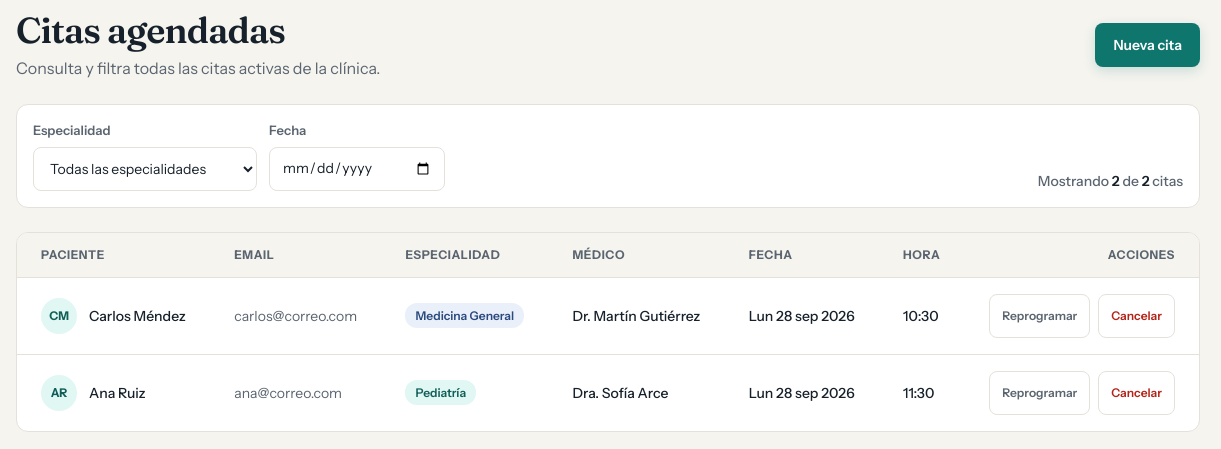
Test: CitasPage › shows "Mostrando N de M citas" counter and filters by specialty
Expected: the 1st text "2" is shown, x1=1112 y1=172 x2=1120 y2=190
Expected: the text "Mostrando 2 de 2 citas" is shown, x1=1038 y1=170 x2=1183 y2=190
Note: Filter by Pediatria
Select "Pediatría" in the dropdown labelled "Especialidad" at (145, 168), box x1=33 y1=146 x2=257 y2=190
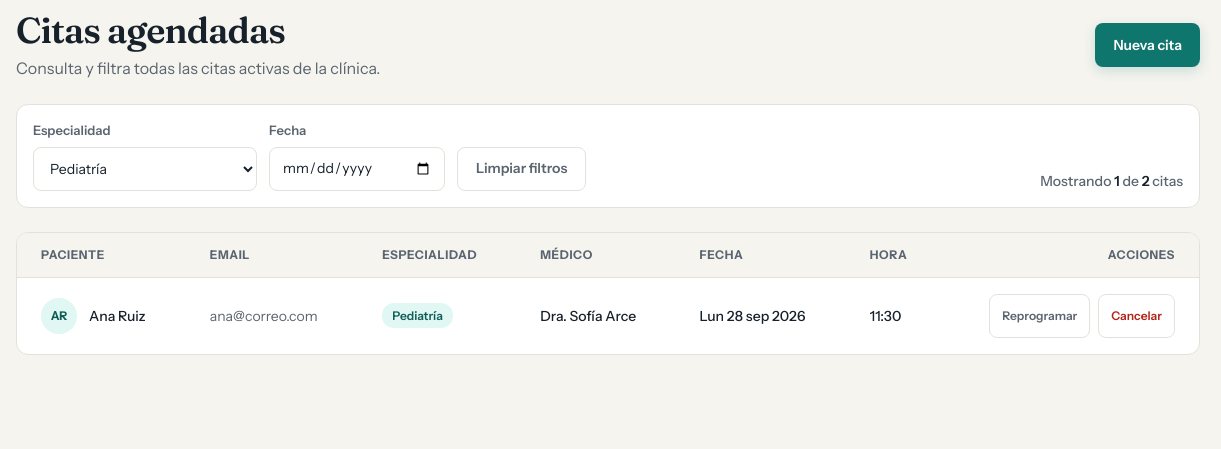
Expected: the text "Ana Ruiz" is shown, x1=89 y1=306 x2=146 y2=326
Now the text "Mostrando 1 de 2 citas" is shown, box x1=1040 y1=170 x2=1183 y2=190
Now the text "Carlos Méndez" is not shown
